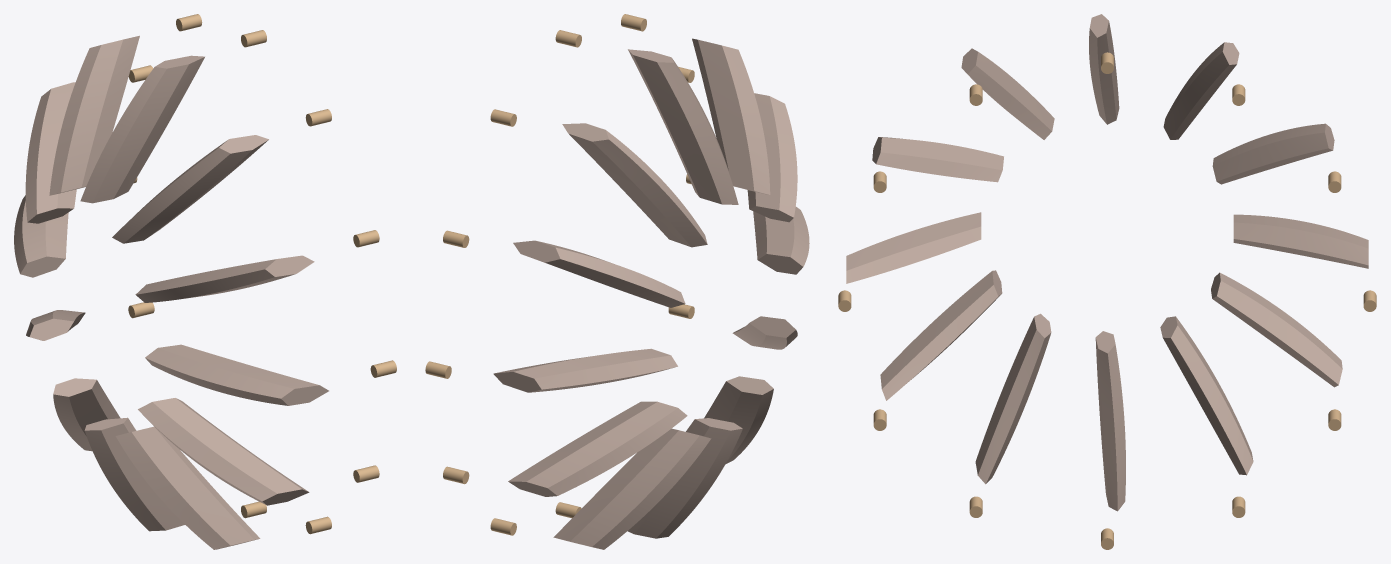
The model's file is afterburner-gutter-details.glb.
3 views of the same model, side by side, from view 1: azimuth 30°, elevation 25°; view 2: azimuth 150°, elevation 25°; view 3: azimuth 270°, elevation 25° (orthographic).
Visible parts, largest first — view 1: afterburner-gutter-details - heat, afterburner-gutter-details - bronze; view 2: afterburner-gutter-details - heat, afterburner-gutter-details - bronze; view 3: afterburner-gutter-details - heat, afterburner-gutter-details - bronze.
Boxes of the visible parts, x1,y1,x2,y2 form: afterburner-gutter-details - heat: (14,35,328,549); afterburner-gutter-details - bronze: (128,14,396,534); afterburner-gutter-details - heat: (493,38,809,549); afterburner-gutter-details - bronze: (425,14,694,535); afterburner-gutter-details - heat: (846,14,1368,511); afterburner-gutter-details - bronze: (838,52,1376,549).
Bounding box in the file's own units: 0.6798 × 1.73 × 1.73.
